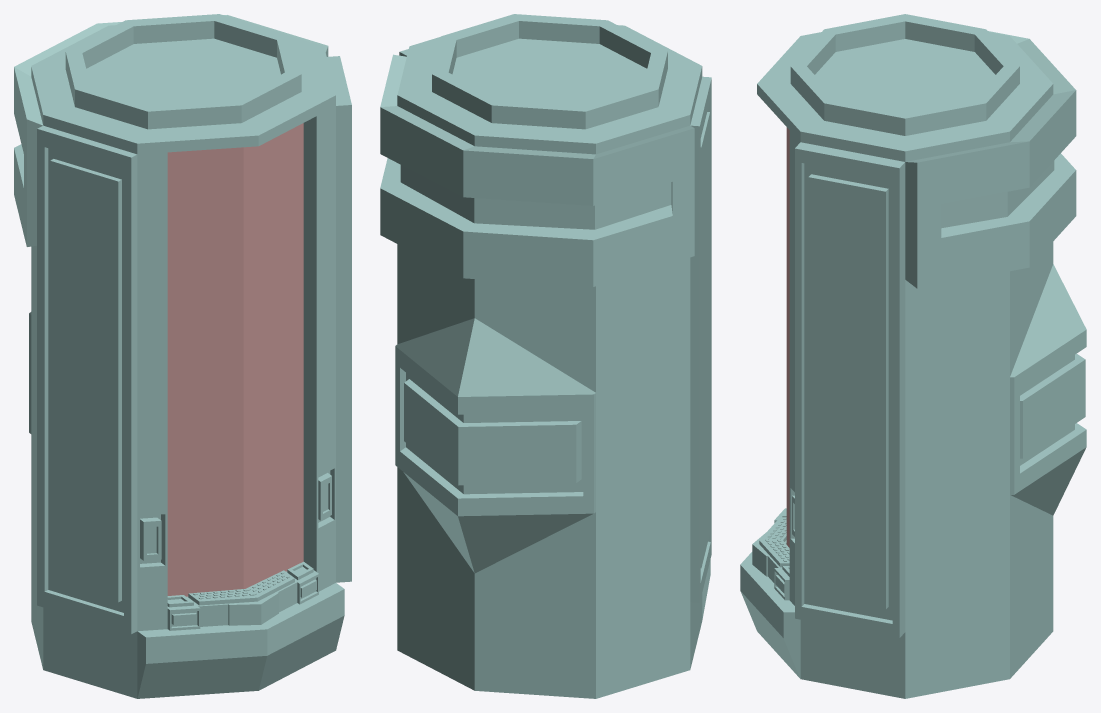
File: 3D_GasbehälterGroßB_181022_AS_LowPoly.fbx
3 views of the same model, side by side, from view 1: azimuth 30°, elevation 25°; view 2: azimuth 150°, elevation 25°; view 3: azimuth 270°, elevation 25° (orthographic).
Visible parts, largest first — view 1: Cylinder; view 2: Cylinder; view 3: Cylinder.
Boxes of the visible parts, box(x1,y1,x2,y2) form: Cylinder: box(14, 14, 351, 698); Cylinder: box(380, 14, 711, 698); Cylinder: box(740, 14, 1086, 698).
Bounding box in the file's own units: 3000 × 5400 × 3000.
